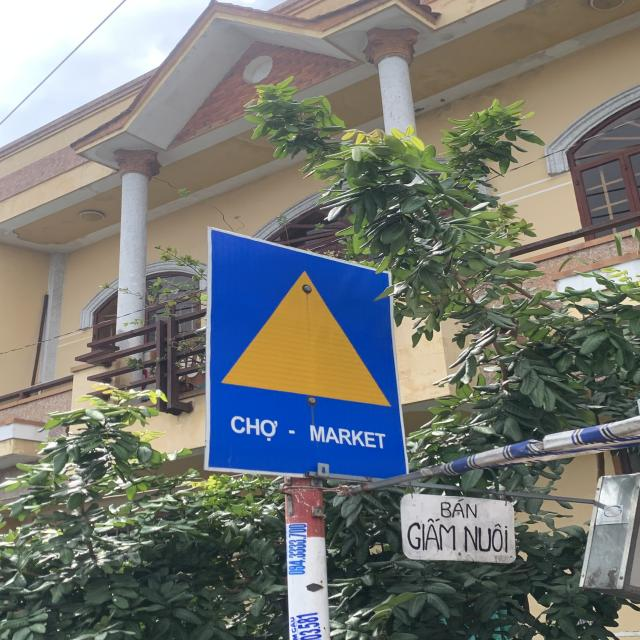Cho_Quay_Xe: (208, 232, 410, 482)
